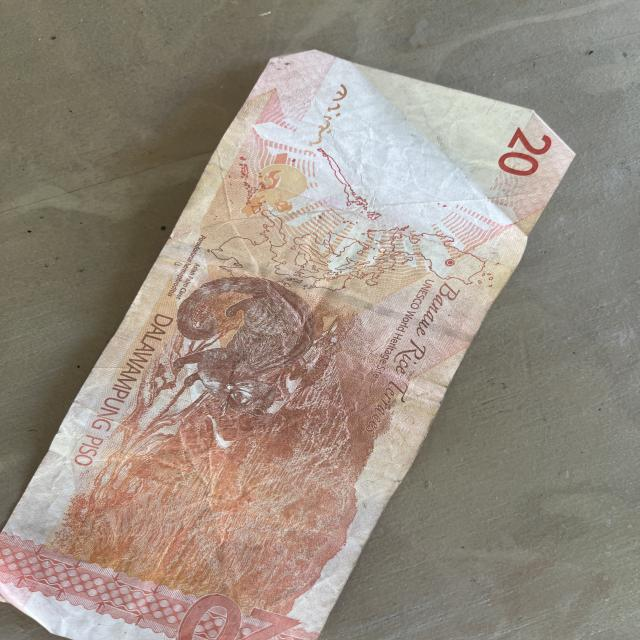20_civet: (166, 273, 309, 422)
20_civet_watermark: (242, 150, 310, 216)
